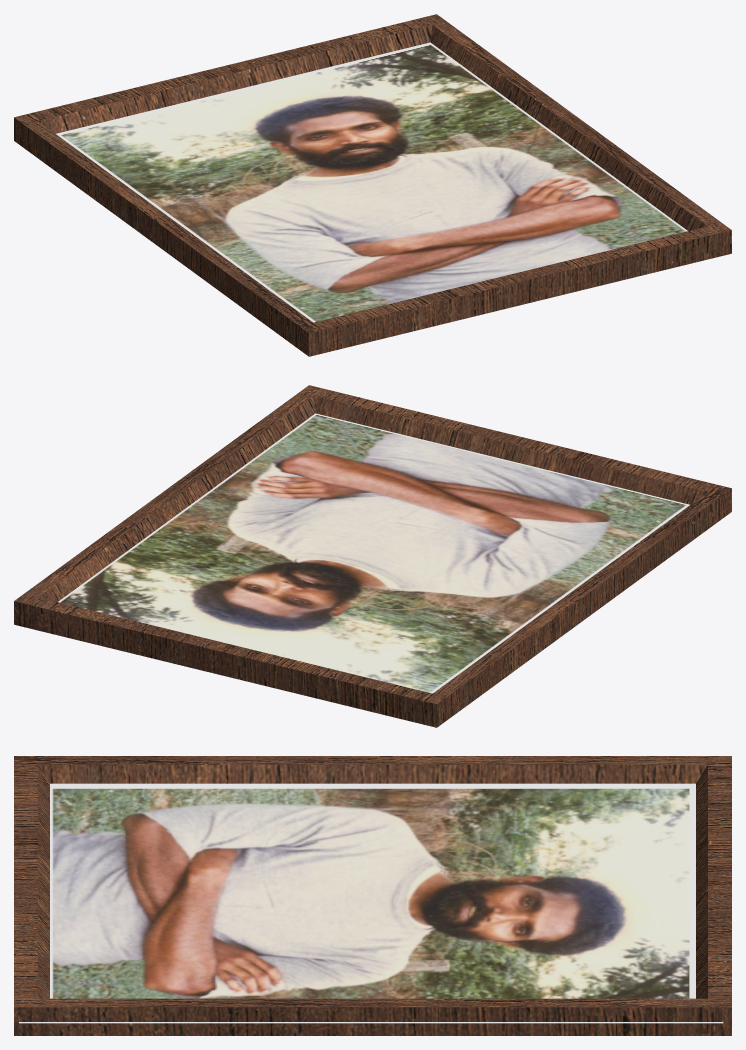
The picture shows the model from 3 angles, top to bottom: view 1: azimuth 30°, elevation 25°; view 2: azimuth 150°, elevation 25°; view 3: azimuth 270°, elevation 25°; orthographic projection. The views are drawn at different scales.
Visible parts, largest first — view 1: Plane, frame1(1); view 2: Plane, frame1(1); view 3: Plane, frame1(1).
Boxes of the visible parts, x1=… form: Plane: x1=56, y1=42, x2=687, y2=322; frame1(1): x1=14, y1=14, x2=731, y2=356; Plane: x1=58, y1=413, x2=689, y2=693; frame1(1): x1=14, y1=385, x2=731, y2=727; Plane: x1=19, y1=783, x2=723, y2=1023; frame1(1): x1=14, y1=756, x2=731, y2=1035.
Size of the model in its own units: 8.06 by 0.4268 by 9.69.
2 materials, 2 textured.
